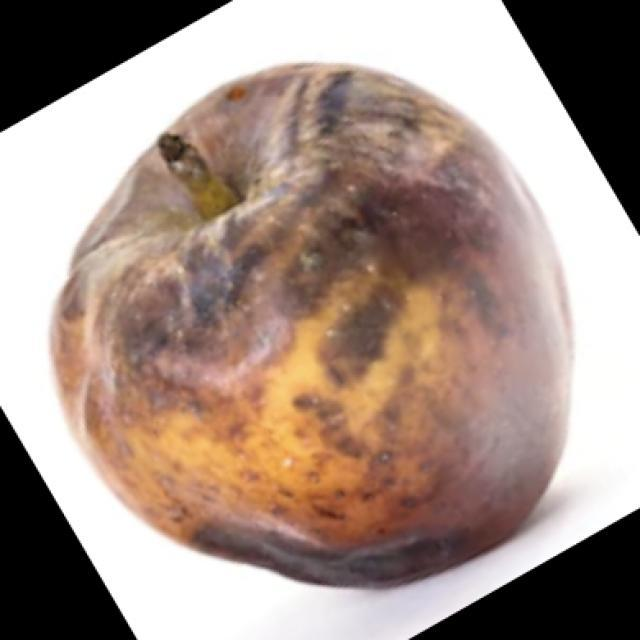Rotten: (87, 58, 570, 570)
